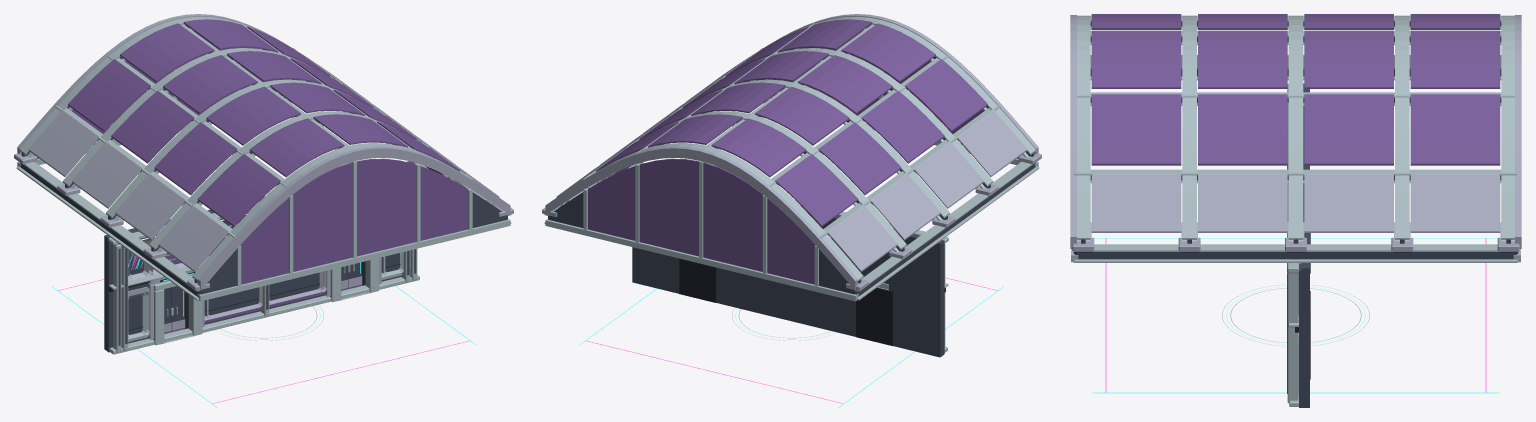
Rendered from atrium-proof.glb.
The picture shows the model from 3 angles, left to right: view 1: azimuth 30°, elevation 25°; view 2: azimuth 150°, elevation 25°; view 3: azimuth 270°, elevation 25°; orthographic projection. The views are drawn at different scales.
Parts seen in each view (by area): view 1: atrium_roof_VT1_violet_anodized_cassette, atrium_roof_VT1_pearl_enamel, atrium_roof_VT1_satin_machined_alloy, panel_2_VT1_satin_machined_alloy, panel_0_VT1_satin_machined_alloy, panel_0_VT1_graphite_structure, panel_2_VT1_graphite_structure, atrium_static_VT1_satin_machined_alloy, atrium_roof_VT1_graphite_structure, panel_0_VT1_pearl_enamel, panel_2_VT1_pearl_enamel, atrium_static_VT1_graphite_structure (+1 smaller); view 2: atrium_roof_VT1_violet_anodized_cassette, atrium_roof_VT1_pearl_enamel, atrium_roof_VT1_satin_machined_alloy, panel_0_VT1_graphite_structure, panel_2_VT1_graphite_structure, panel_0_VT1_recess_dark_rubber, atrium_static_VT1_satin_machined_alloy, atrium_roof_VT1_graphite_structure, atrium_static_VT1_graphite_structure, panel_2_VT1_recess_dark_rubber; view 3: atrium_roof_VT1_violet_anodized_cassette, atrium_roof_VT1_pearl_enamel, atrium_roof_VT1_satin_machined_alloy, atrium_static_VT1_satin_machined_alloy, atrium_static_VT1_graphite_structure, panel_2_VT1_graphite_structure, panel_2_VT1_satin_machined_alloy, atrium_detail_VT1_cyan_ceramic_inlay, atrium_detail_VT1_magenta_ceramic_inlay, atrium_detail_VT1_satin_machined_alloy, atrium_roof_VT1_graphite_structure.
Part boxes in pixels (x1,y1,x2,y2): atrium_roof_VT1_violet_anodized_cassette: (68, 19, 467, 284); atrium_roof_VT1_pearl_enamel: (14, 14, 513, 290); atrium_roof_VT1_satin_machined_alloy: (17, 16, 510, 301); panel_2_VT1_satin_machined_alloy: (107, 202, 419, 354); panel_0_VT1_satin_machined_alloy: (121, 203, 412, 350); panel_0_VT1_graphite_structure: (125, 198, 409, 343); panel_2_VT1_graphite_structure: (104, 161, 416, 352); atrium_static_VT1_satin_machined_alloy: (16, 161, 511, 300); atrium_roof_VT1_graphite_structure: (21, 24, 507, 294); panel_0_VT1_pearl_enamel: (128, 238, 401, 341); panel_2_VT1_pearl_enamel: (114, 220, 401, 339); atrium_static_VT1_graphite_structure: (20, 163, 507, 296); atrium_roof_VT1_violet_anodized_cassette: (588, 19, 987, 284); atrium_roof_VT1_pearl_enamel: (542, 14, 1041, 290); atrium_roof_VT1_satin_machined_alloy: (545, 16, 1038, 301); panel_0_VT1_graphite_structure: (639, 211, 933, 350); panel_2_VT1_graphite_structure: (632, 205, 944, 357); panel_0_VT1_recess_dark_rubber: (683, 259, 888, 344); atrium_static_VT1_satin_machined_alloy: (544, 161, 1039, 300); atrium_roof_VT1_graphite_structure: (548, 24, 1034, 294); atrium_static_VT1_graphite_structure: (548, 163, 1035, 296); panel_2_VT1_recess_dark_rubber: (679, 258, 945, 345); atrium_roof_VT1_violet_anodized_cassette: (1091, 14, 1500, 165); atrium_roof_VT1_pearl_enamel: (1070, 15, 1521, 251); atrium_roof_VT1_satin_machined_alloy: (1071, 15, 1520, 262); atrium_static_VT1_satin_machined_alloy: (1074, 76, 1517, 262); atrium_static_VT1_graphite_structure: (1075, 70, 1516, 259); panel_2_VT1_graphite_structure: (1287, 83, 1309, 407); panel_2_VT1_satin_machined_alloy: (1287, 83, 1301, 406); atrium_detail_VT1_cyan_ceramic_inlay: (1092, 238, 1499, 393); atrium_detail_VT1_magenta_ceramic_inlay: (1105, 238, 1486, 392); atrium_detail_VT1_satin_machined_alloy: (1222, 284, 1369, 346); atrium_roof_VT1_graphite_structure: (1073, 21, 1518, 253).
Bounding box in the file's own units: 15.11 × 10.53 × 15.06.
